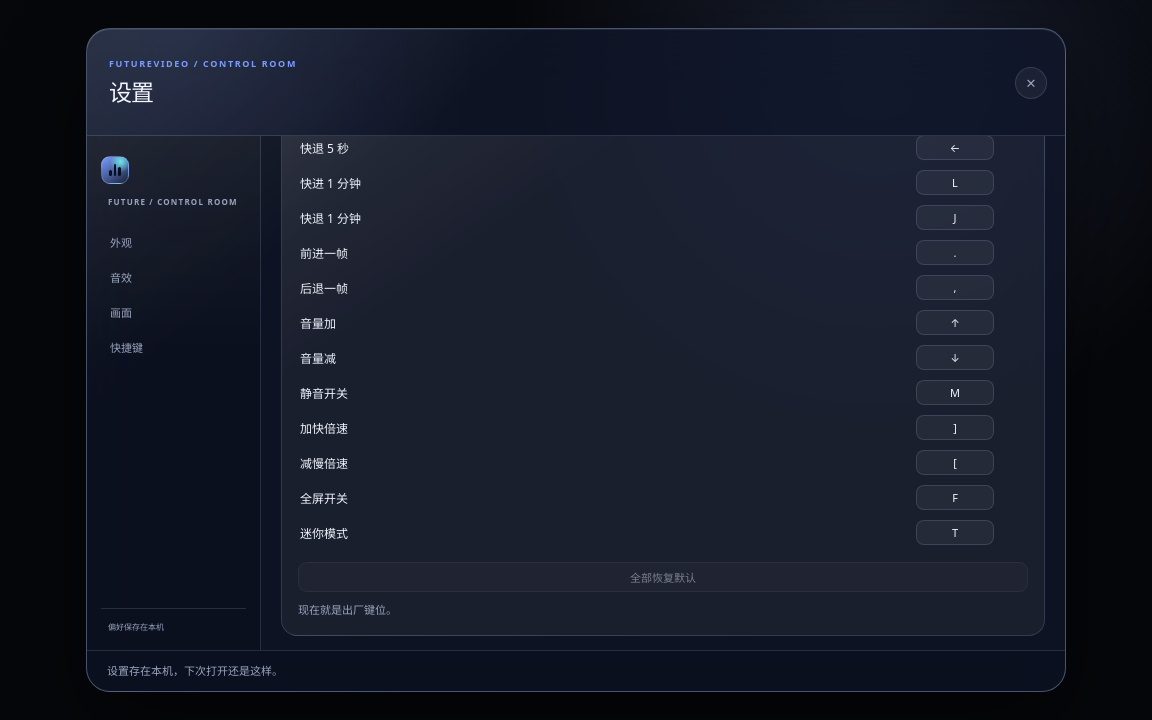
设置页 · 快捷键 › 点一下按键再按新键，就把新键交给后端
(page scrolled)
Click the button named "静音开关 的按键".
click(955, 392)  # box [916,380,994,405]
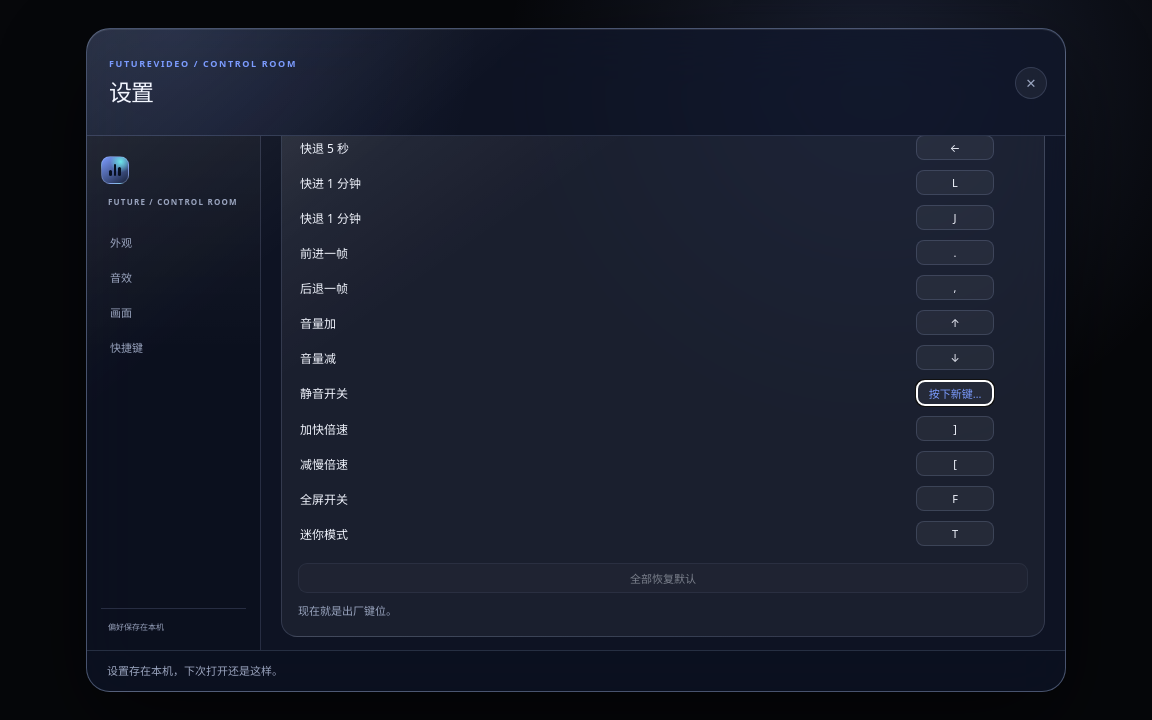
expect the button with aria-label "静音开关 的按键" reads "按下新键…": met, box [916,380,994,406]
Press KeyQ
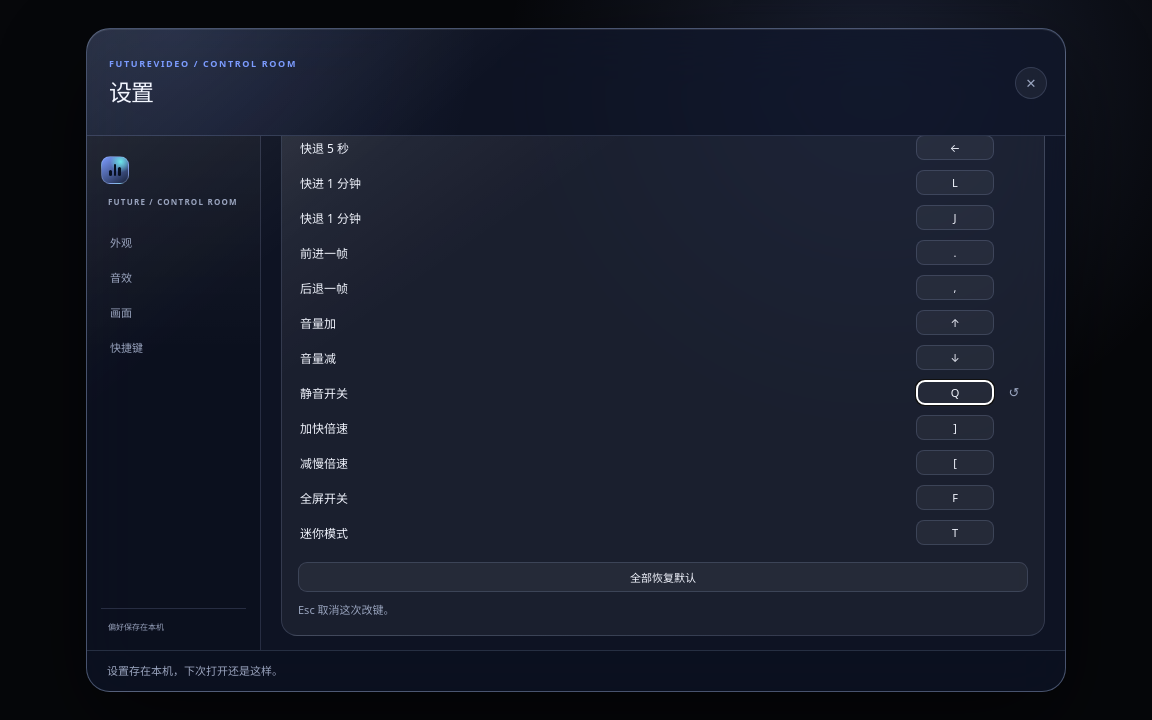
expect the button named "静音开关 的按键" reads "Q": met, box [916,380,994,405]
